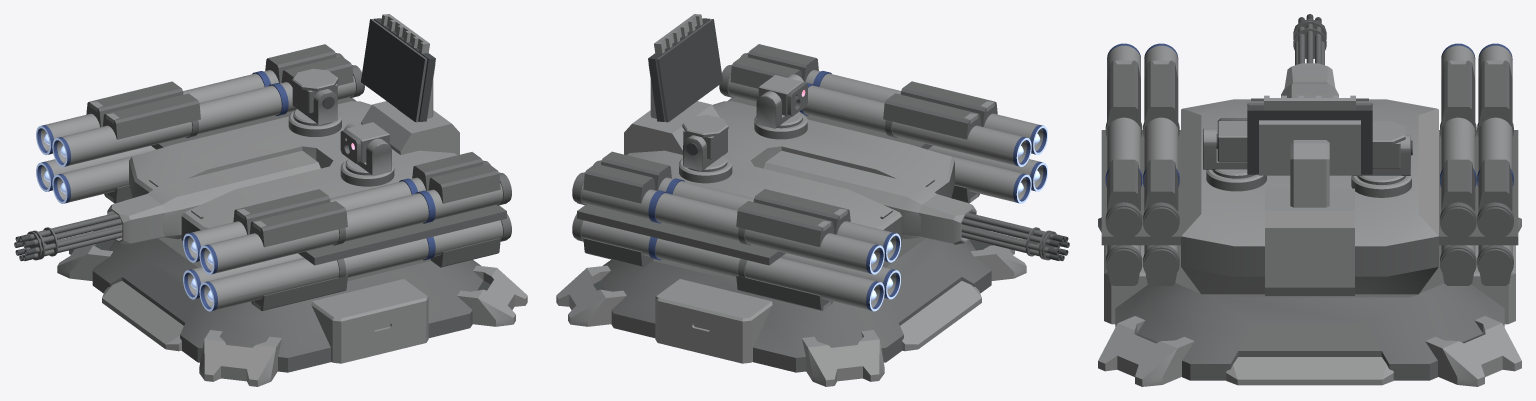
Rendered from CombinedAirDefense.fbx.
3 renders of one model, left to right at view 1: azimuth 30°, elevation 25°; view 2: azimuth 150°, elevation 25°; view 3: azimuth 270°, elevation 25°, orthographic. The views are drawn at different scales.
Visible parts, largest first — view 1: 立方体.002, 立方体, 立方体.001, 立方体.015, 柱体.039, 柱体.029, 柱体.005, Slice.003, Slice.002, 立方体.009, 立方体.014, 立方体.004 (+29 smaller); view 2: 立方体.002, 立方体, 立方体.001, 立方体.015, 柱体.024, 柱体.019, Slice.003, 柱体.034, Slice.002, 立方体.009, 立方体.014, 立方体.003 (+29 smaller); view 3: 立方体.002, 立方体, Slice.003, 立方体.004, 立方体.001, 什么？, 立方体.007, 立方体.014, 立方体.008, 立方体.006, 柱体.019, 立方体.016 (+31 smaller).
Boxes of the visible parts, bbox=[...] form: 立方体.002: bbox=[129, 101, 456, 240]; 立方体: bbox=[92, 240, 483, 372]; 立方体.001: bbox=[57, 228, 527, 386]; 立方体.015: bbox=[107, 150, 320, 244]; 柱体.039: bbox=[204, 220, 502, 310]; 柱体.029: bbox=[204, 183, 502, 273]; 柱体.005: bbox=[57, 76, 355, 165]; Slice.003: bbox=[125, 237, 456, 321]; Slice.002: bbox=[315, 282, 428, 338]; 立方体.009: bbox=[361, 19, 427, 122]; 立方体.014: bbox=[151, 97, 506, 265]; 立方体.004: bbox=[361, 101, 459, 155]; 立方体.002: bbox=[627, 101, 954, 240]; 立方体: bbox=[600, 240, 991, 372]; 立方体.001: bbox=[556, 228, 1026, 386]; 立方体.015: bbox=[763, 150, 976, 244]; 柱体.024: bbox=[581, 220, 879, 309]; 柱体.019: bbox=[581, 183, 879, 273]; Slice.003: bbox=[626, 237, 959, 321]; 柱体.034: bbox=[728, 75, 1026, 165]; Slice.002: bbox=[655, 282, 768, 338]; 立方体.009: bbox=[656, 19, 722, 122]; 立方体.014: bbox=[577, 97, 932, 265]; 立方体.003: bbox=[655, 279, 772, 363]; 立方体.002: bbox=[1181, 99, 1438, 294]; 立方体: bbox=[1115, 284, 1504, 380]; Slice.003: bbox=[1150, 245, 1469, 342]; 立方体.004: bbox=[1265, 188, 1354, 295]; 立方体.001: bbox=[1098, 217, 1521, 386]; 什么？: bbox=[1226, 357, 1393, 385]; 立方体.007: bbox=[1259, 120, 1360, 175]; 立方体.014: bbox=[1101, 130, 1518, 245]; 立方体.008: bbox=[1247, 105, 1372, 174]; 立方体.006: bbox=[1290, 140, 1329, 207]; 柱体.019: bbox=[1478, 45, 1512, 212]; 立方体.016: bbox=[1441, 60, 1475, 126].
Size of the model in its own units: 1.34 by 0.6857 by 1.
